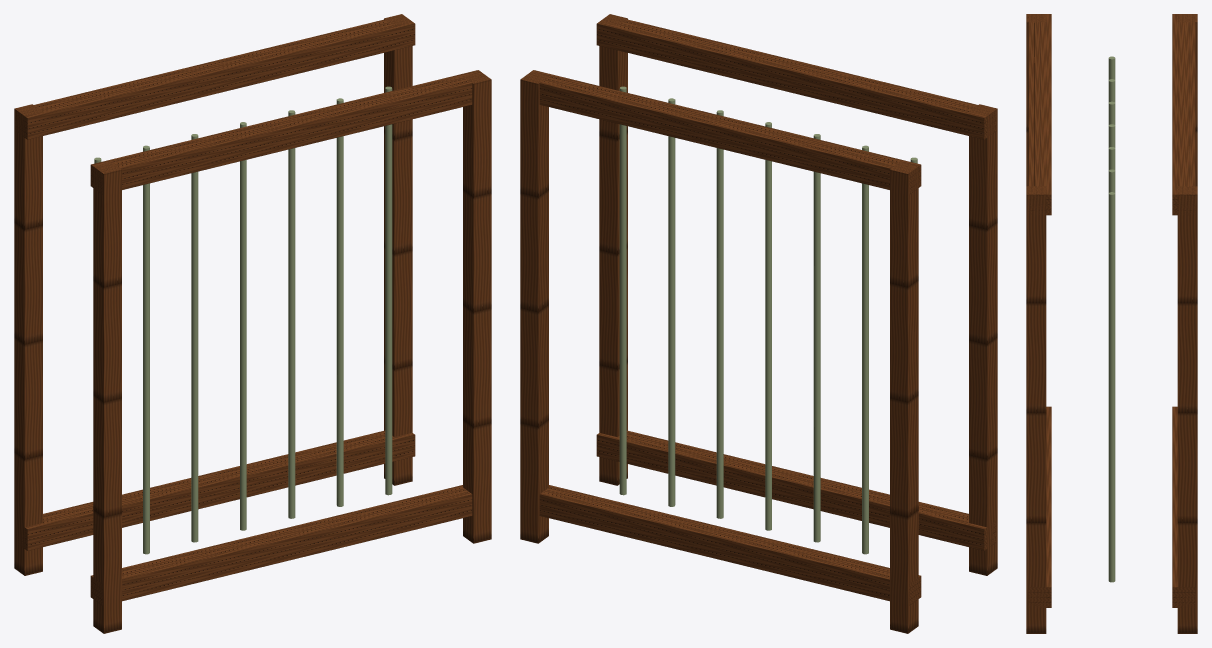
File: bunker-shelter-construction-drying-lines-frame-8cdcb400__23369.glb
3 views of the same model, side by side, from view 1: azimuth 30°, elevation 25°; view 2: azimuth 150°, elevation 25°; view 3: azimuth 270°, elevation 25° (orthographic). The views are drawn at different scales.
Visible parts, largest first — view 1: drying-lines-frame; view 2: drying-lines-frame; view 3: drying-lines-frame.
Part boxes in pixels (left/top/right/bottom): drying-lines-frame: left=14, top=14, right=491, bottom=633; drying-lines-frame: left=520, top=14, right=997, bottom=633; drying-lines-frame: left=1026, top=14, right=1197, bottom=633.
Size of the model in its own units: 1.5 by 1.7 by 0.6.
Materials: 2 (1 with a texture image).
